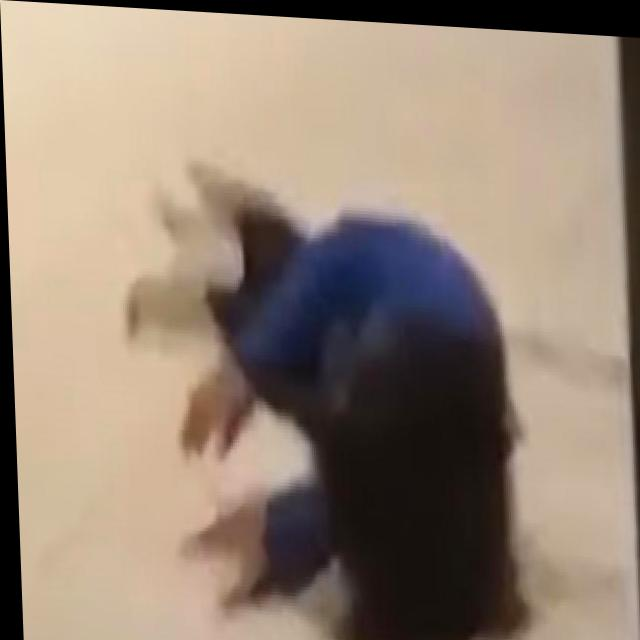fall: (125, 159, 519, 640)
